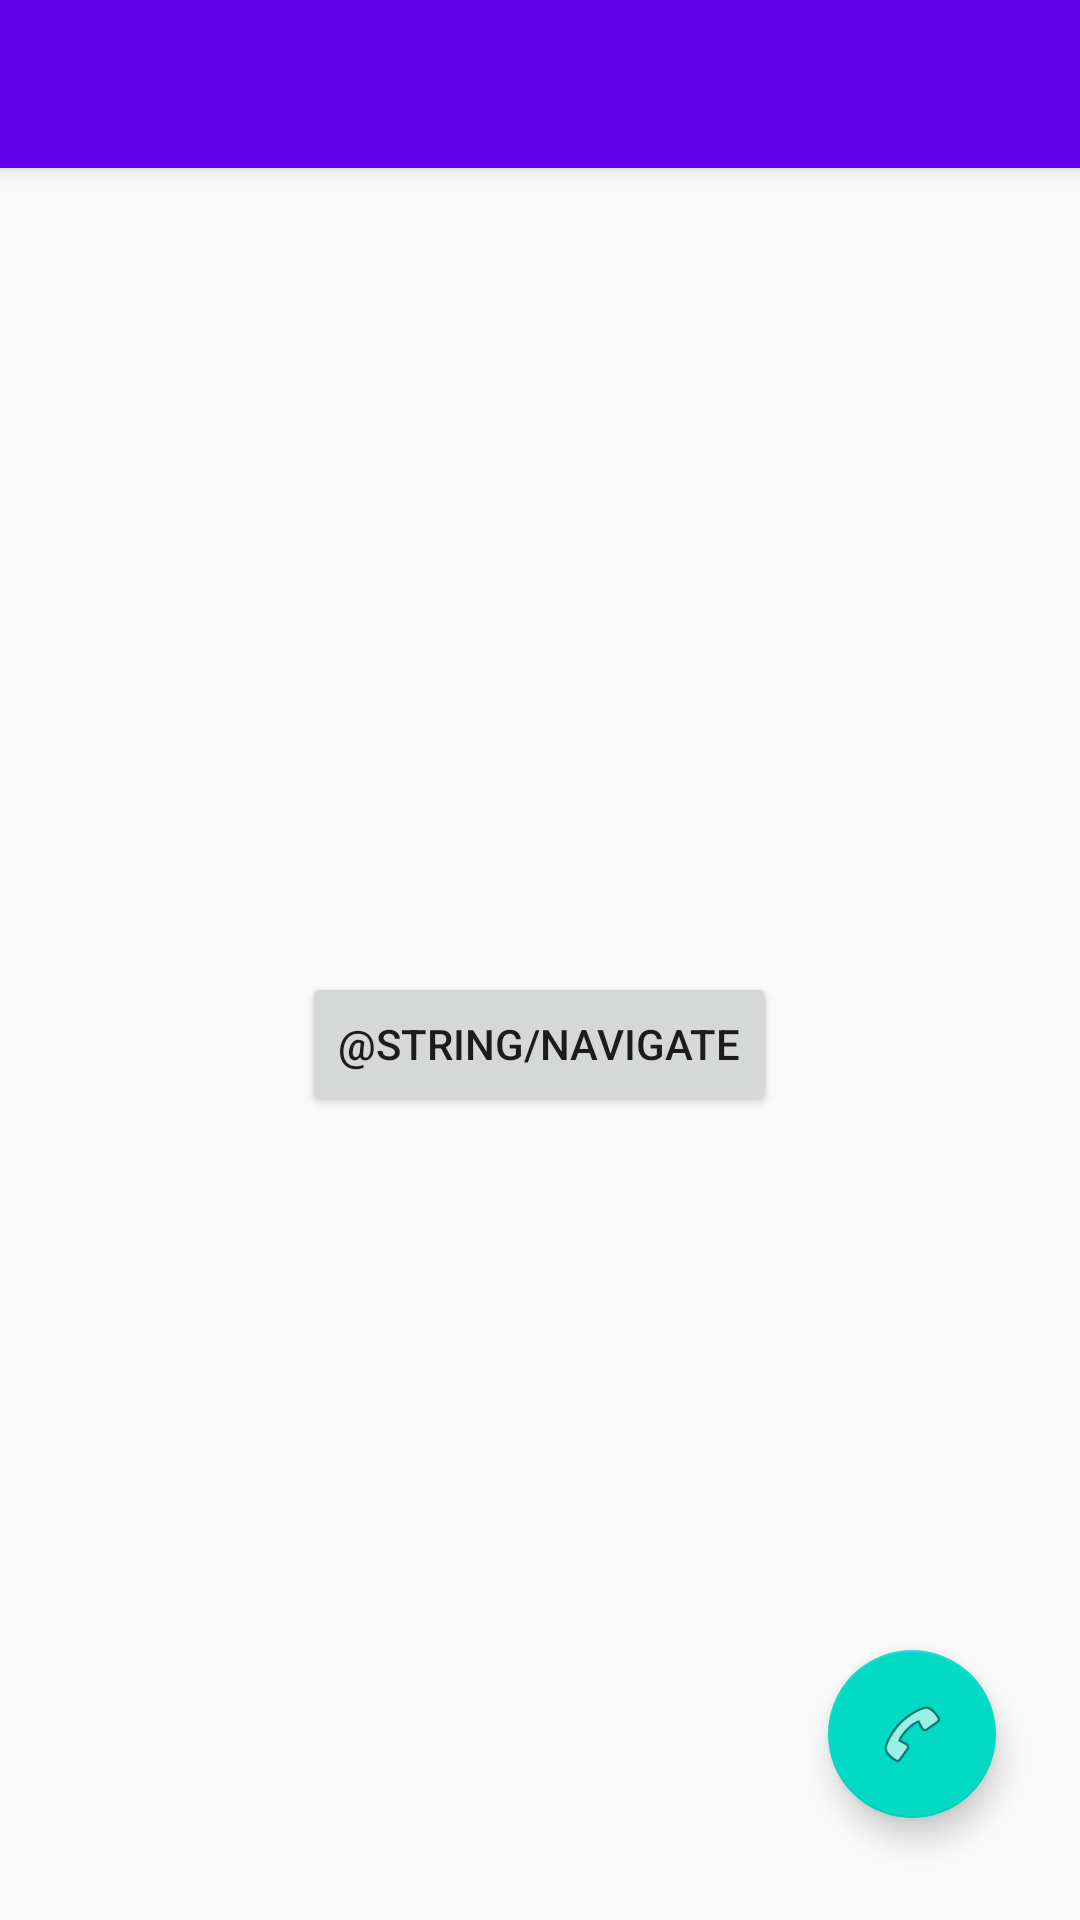

Screen size 1080px x 1920px. Icon name, then its center in pixels as (x=x, y=y):
call: (x=913, y=1742)
